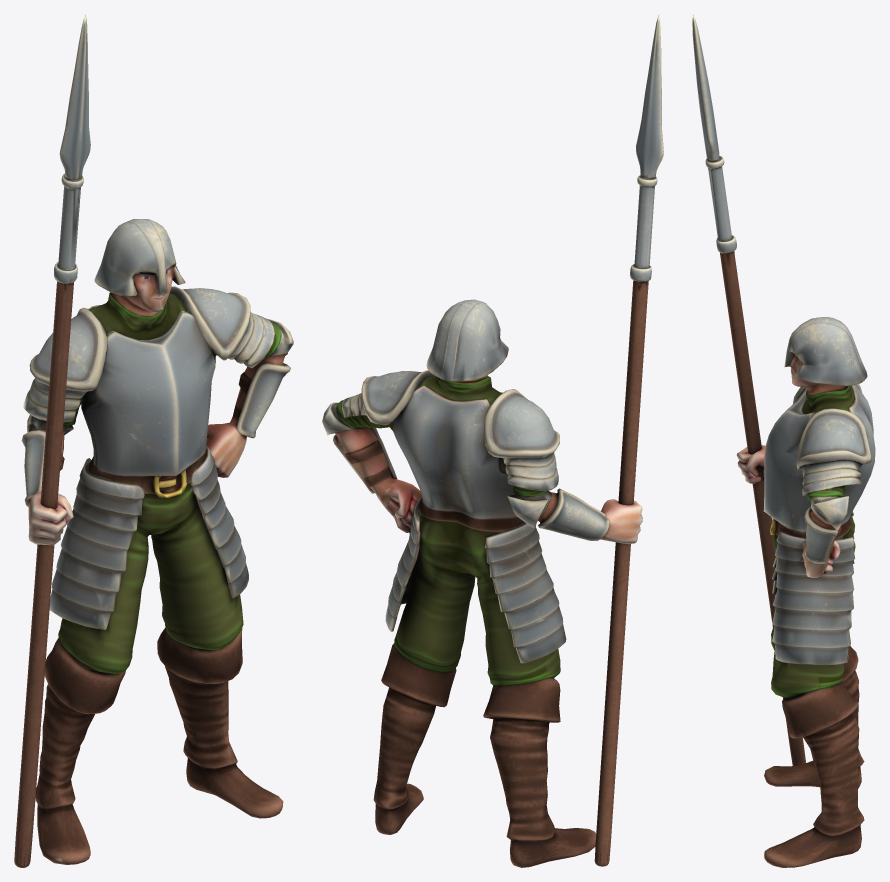
File: MZ4250 - NPC Guard with spear Green.glb
The picture shows the model from 3 angles, left to right: view 1: azimuth 30°, elevation 25°; view 2: azimuth 150°, elevation 25°; view 3: azimuth 270°, elevation 25°; orthographic projection. The views are drawn at different scales.
Parts seen in each view (by area): view 1: body_low.001, spear_low.001; view 2: body_low.001, spear_low.001; view 3: body_low.001, spear_low.001.
Part boxes in pixels (x1,y1,x2,y2): body_low.001: (21,219,293,864); spear_low.001: (14,14,90,867); body_low.001: (322,299,642,867); spear_low.001: (594,15,663,866); body_low.001: (736,317,875,867); spear_low.001: (692,14,805,765).
Bounding box in the file's own units: 3.43 × 9.63 × 2.11.
Materials: 1 (1 with a texture image).
